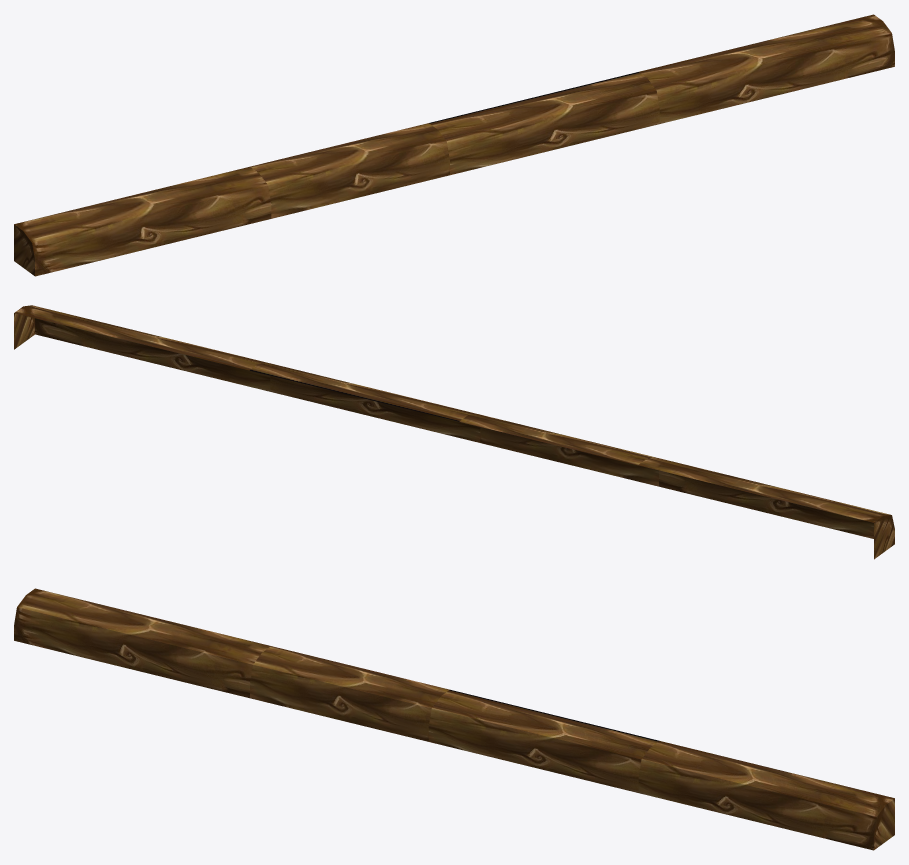
Rendered from zocalo_small.fbx.
3 renders of one model, top to bottom at view 1: azimuth 30°, elevation 25°; view 2: azimuth 150°, elevation 25°; view 3: azimuth 330°, elevation 25°, orthographic.
Parts seen in each view (by area): view 1: Object003; view 2: Object003; view 3: Object003.
Part boxes in pixels (left/top/right/bottom): Object003: left=14, top=14, right=894, bottom=276; Object003: left=14, top=305, right=894, bottom=559; Object003: left=14, top=588, right=894, bottom=850.
Size of the model in its own units: 16.67 by 0.682 by 0.7097.
